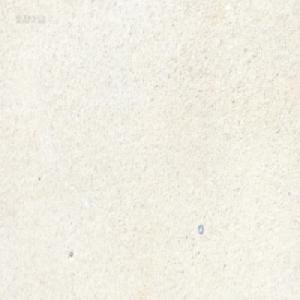Washer: (197, 223, 203, 234)
